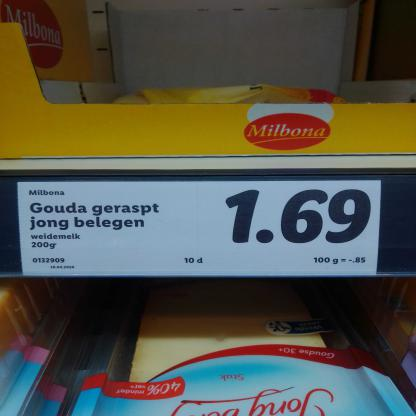prtg: (18, 181, 382, 276)
